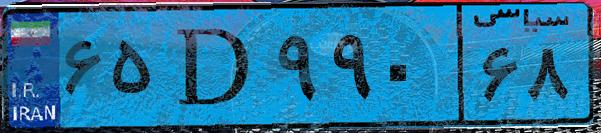0: (385, 28, 445, 110)
5: (110, 28, 158, 98)
6: (57, 26, 110, 100), (475, 38, 525, 113)
8: (525, 38, 570, 115)
9: (270, 28, 330, 110), (330, 28, 385, 110)
D: (158, 12, 270, 120)
